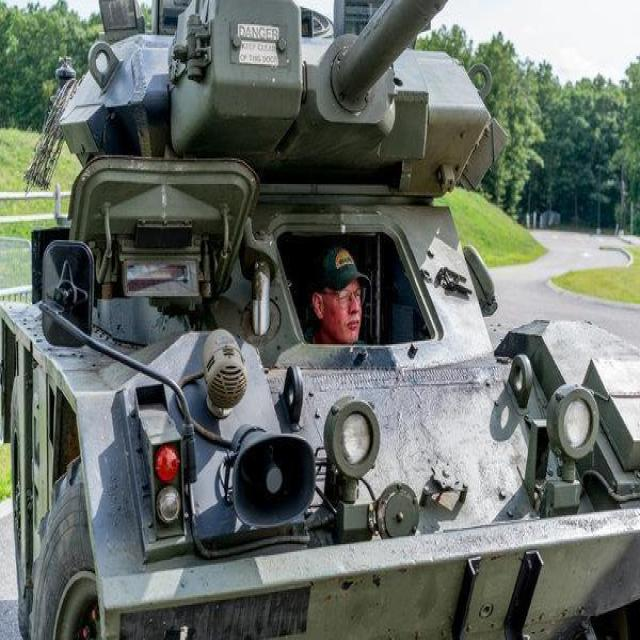Tanks: (18, 10, 631, 620)
